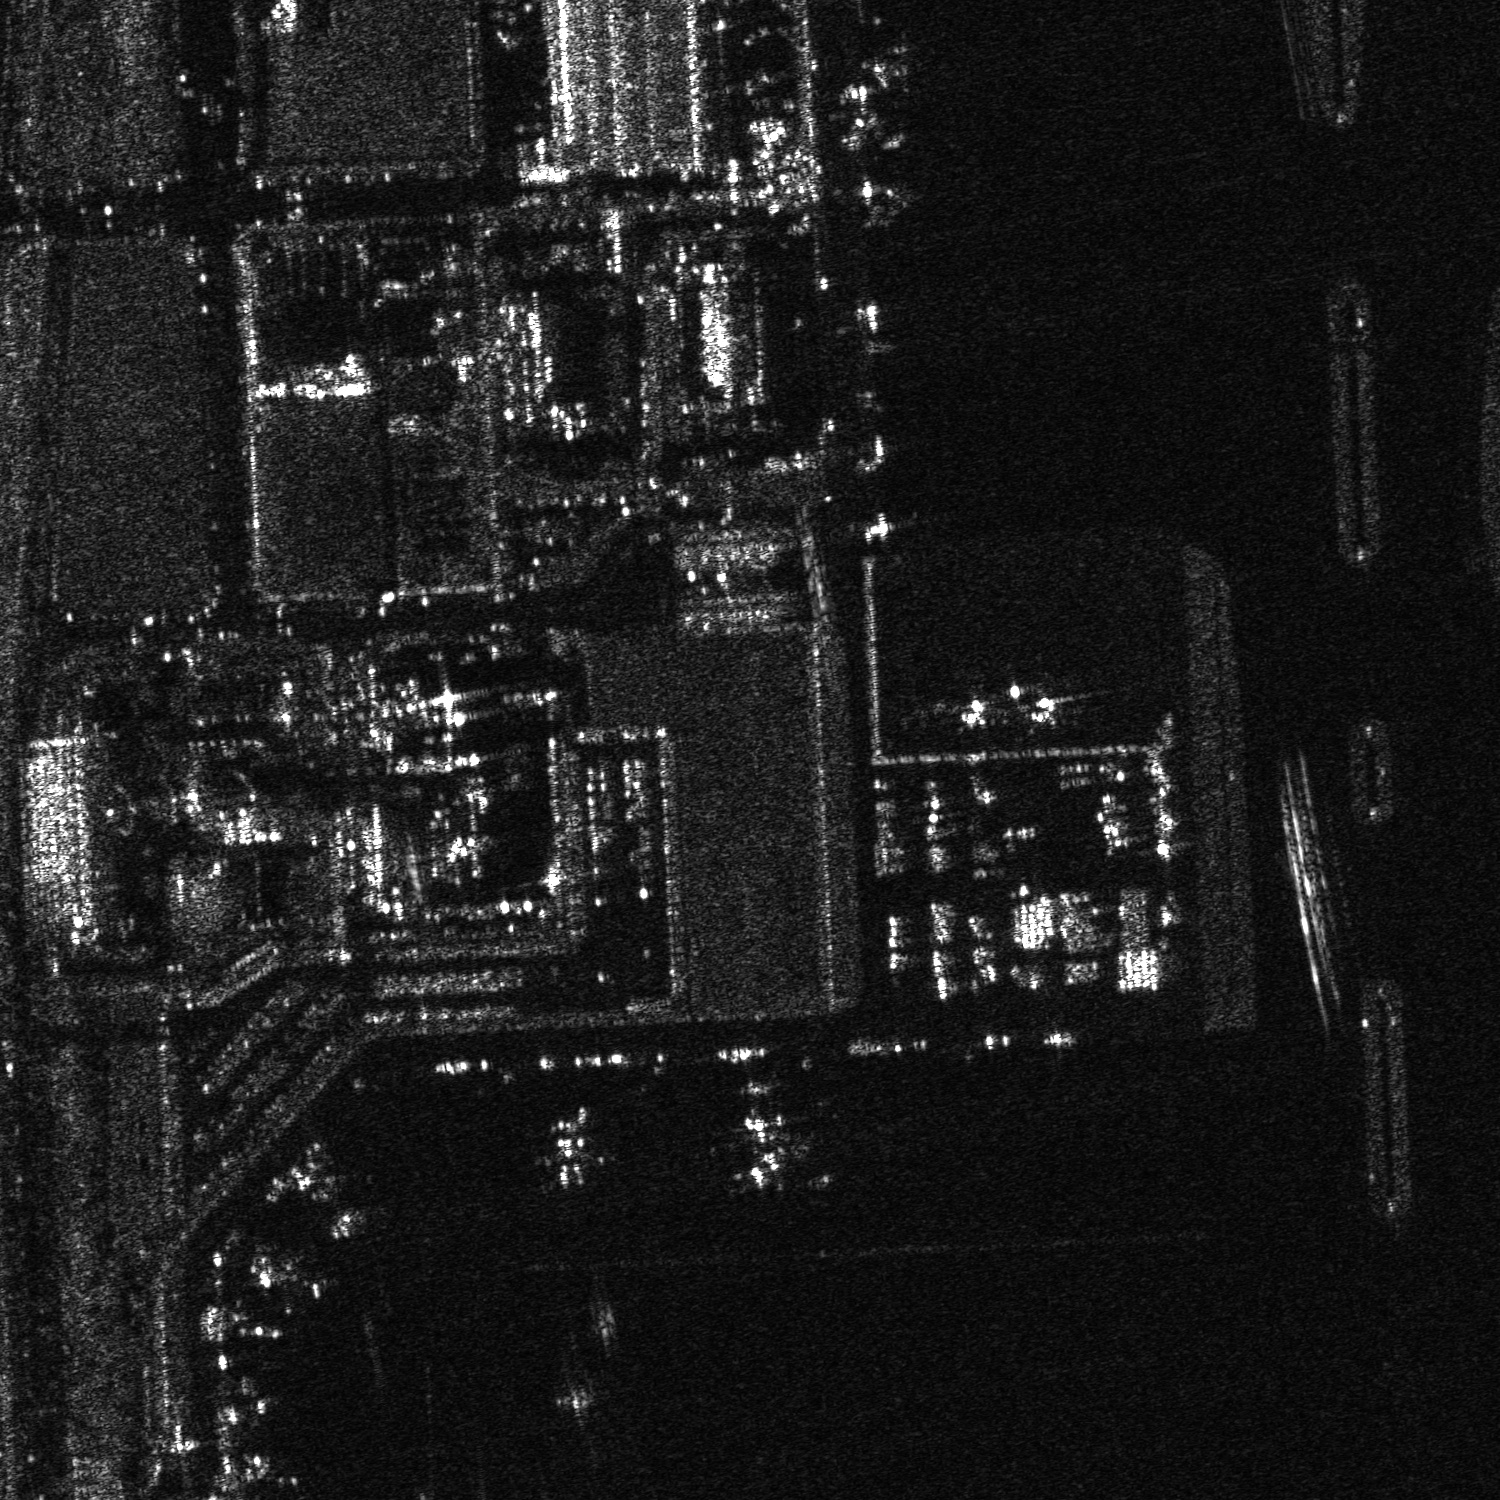A220: (293, 1163, 385, 1245), (243, 1245, 341, 1320)
ARJ21: (942, 679, 1007, 736)
Boeing737: (529, 1109, 620, 1192)
other: (720, 1107, 815, 1196), (857, 27, 940, 93), (1012, 681, 1082, 734)
